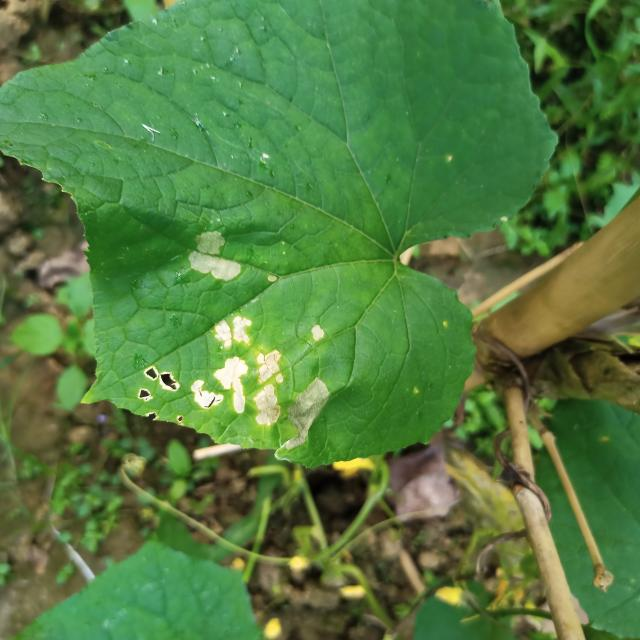disease_cucumber: (132, 304, 354, 454), (178, 222, 249, 296)
